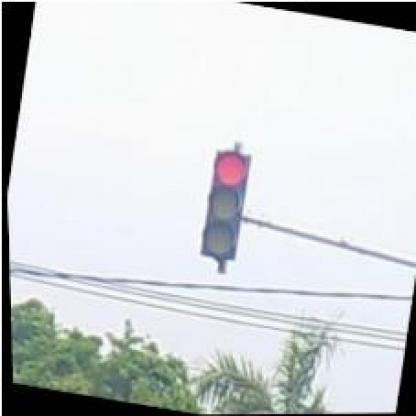red: (194, 145, 253, 258)
